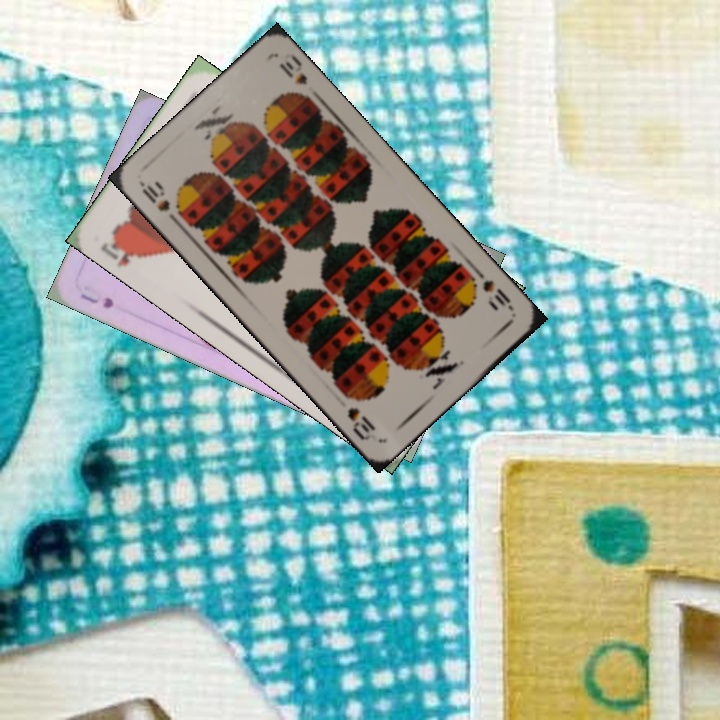HO: (97, 229, 145, 270)
S10: (137, 178, 182, 228), (478, 275, 517, 314)
SU: (76, 289, 117, 312)
